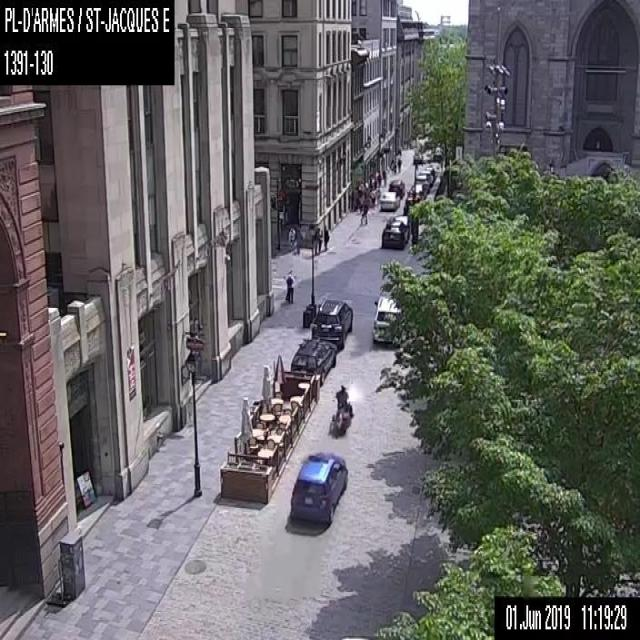pedestrian: (284, 272, 294, 301), (287, 225, 295, 253), (360, 200, 368, 224), (322, 224, 328, 250), (316, 227, 322, 252), (381, 168, 386, 186), (376, 170, 381, 188), (396, 157, 401, 171), (389, 160, 394, 173)
vehicle: (288, 451, 347, 526), (310, 297, 352, 349), (290, 339, 336, 385), (371, 296, 402, 345), (328, 384, 353, 436), (380, 219, 408, 248), (403, 194, 422, 218), (380, 190, 400, 210), (392, 215, 410, 236), (388, 179, 404, 199), (415, 173, 429, 194)
